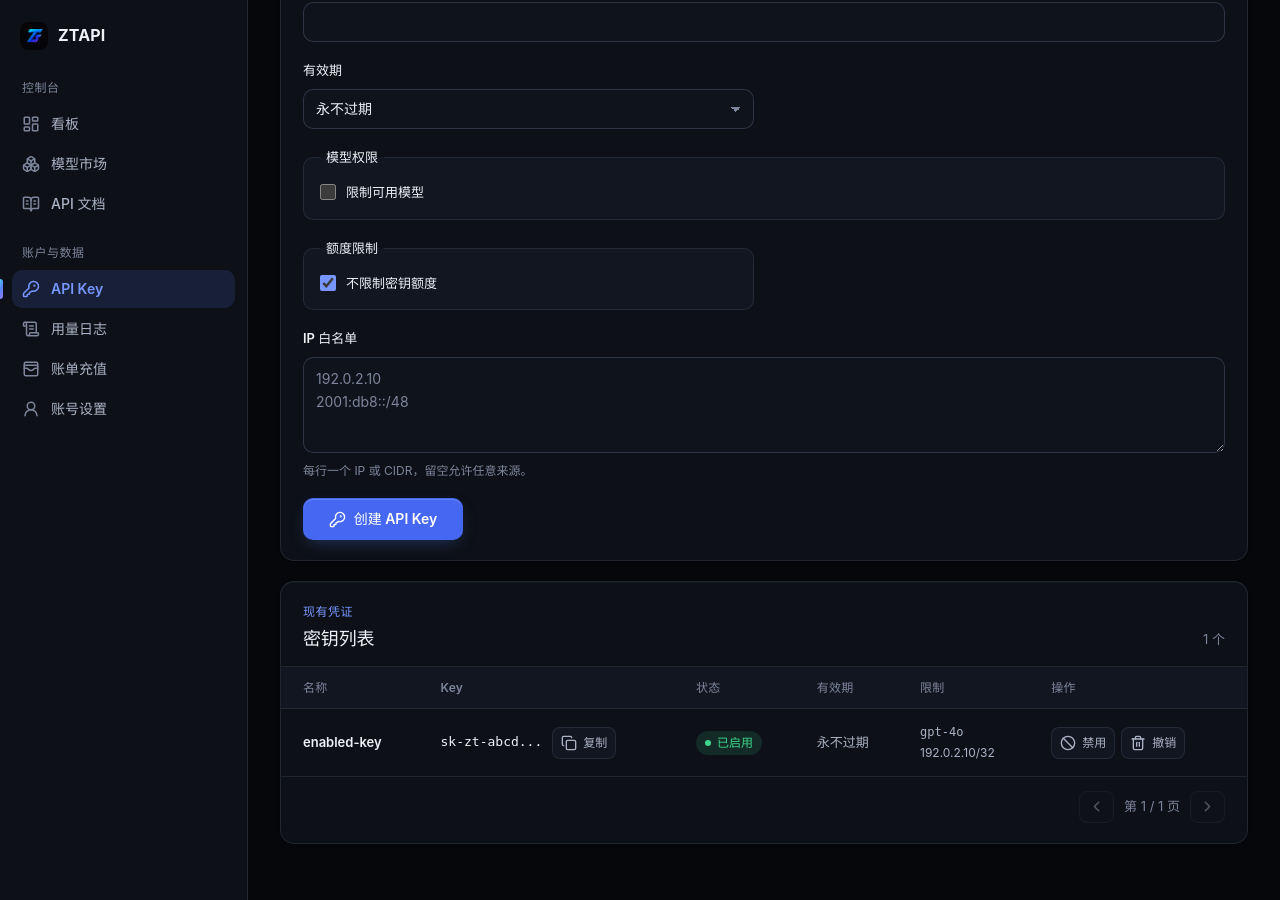
Test: ZTAPI one-time API keys › copies the full key of an encrypted key straight from the list
(page scrolled)
Expected: the text "enabled-key" is shown, [303,734,382,750]
What coordinates should you click on to do the following:
click the button with aria-label "复制 enabled-key 的完整 Key"
I would click on:
 (584, 742)
Its box is [552,726,616,758].
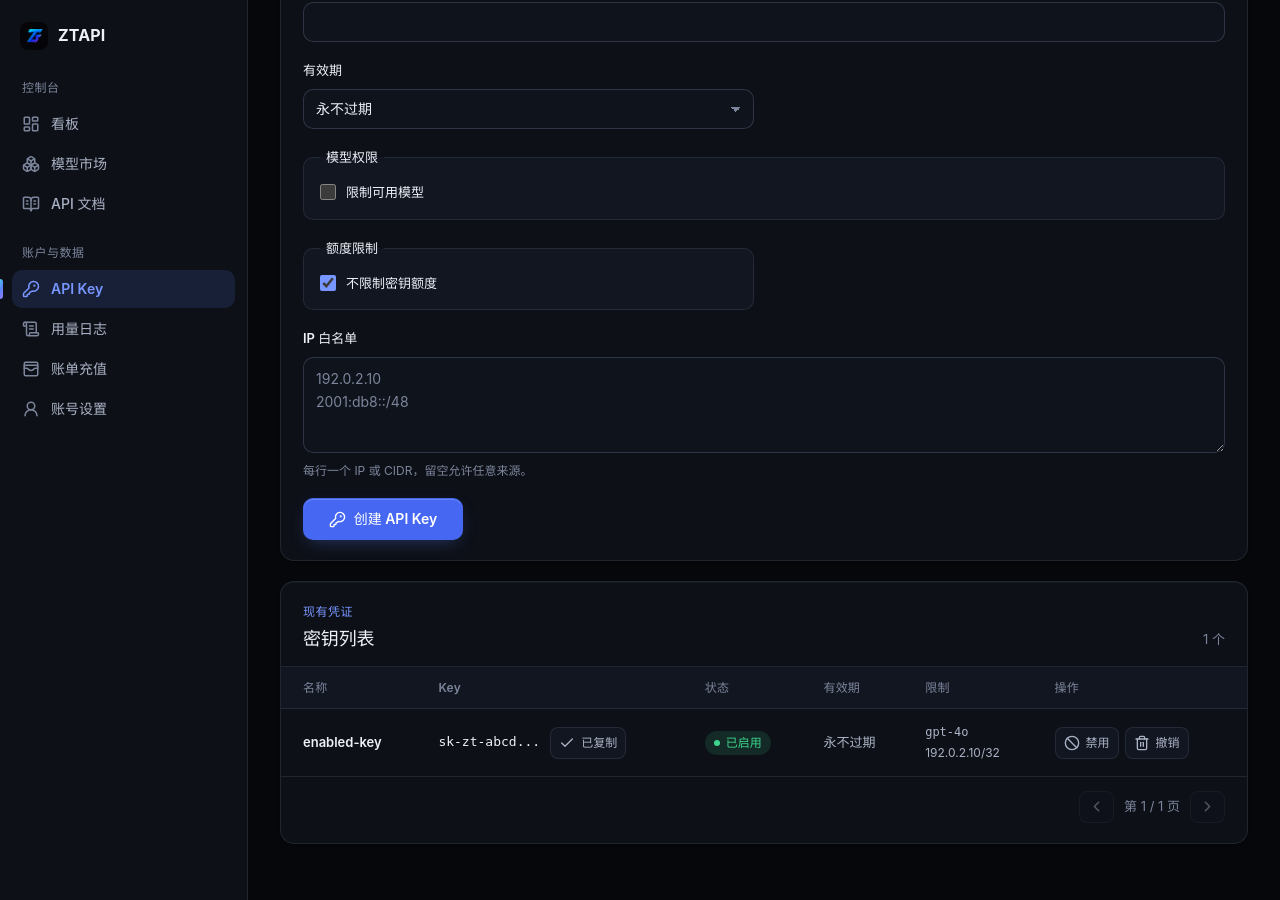
Expected: the button with aria-label "已复制 enabled-key 的完整 Key" is shown, [550,726,626,758]
